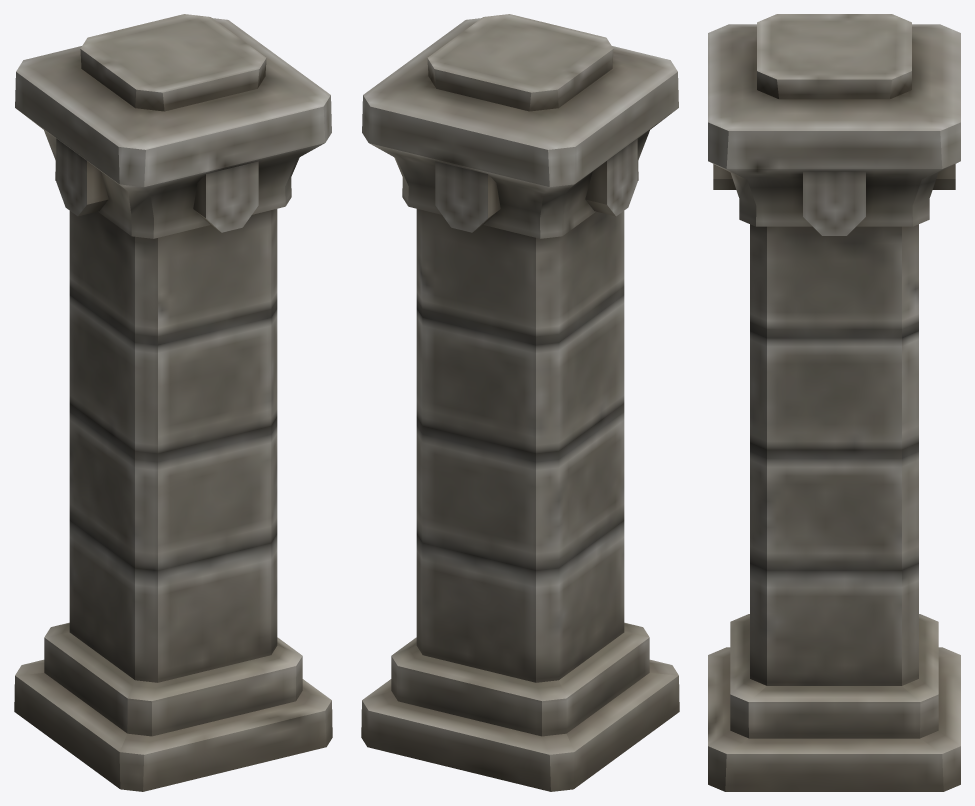
File: Graveyard_02.fbx
3 renders of one model, left to right at view 1: azimuth 30°, elevation 25°; view 2: azimuth 150°, elevation 25°; view 3: azimuth 270°, elevation 25°, orthographic. The views are drawn at different scales.
Parts seen in each view (by area): view 1: polySurface1719; view 2: polySurface1719; view 3: polySurface1719.
Part boxes in pixels (<box>): polySurface1719: <box>14,14,332,791</box>; polySurface1719: <box>361,14,679,791</box>; polySurface1719: <box>708,14,960,791</box>.
Bounding box in the file's own units: 16.75 × 50.6 × 16.75.
1 material, 1 textured.
